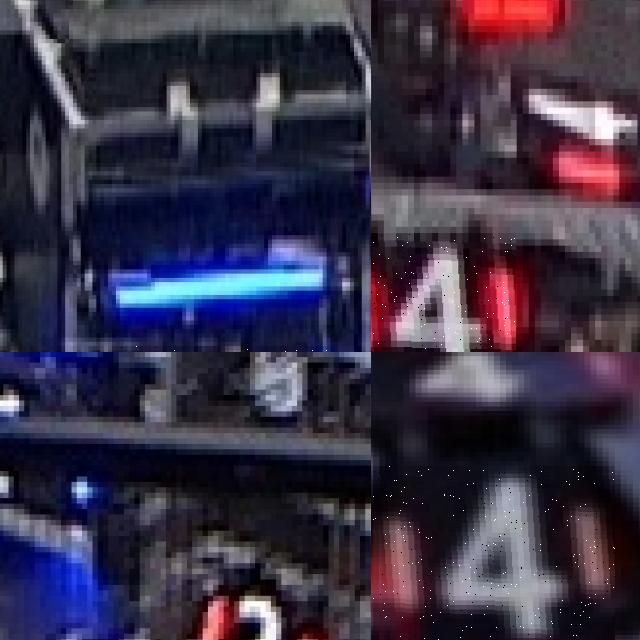R4: (373, 465, 614, 640), (371, 233, 516, 352)
